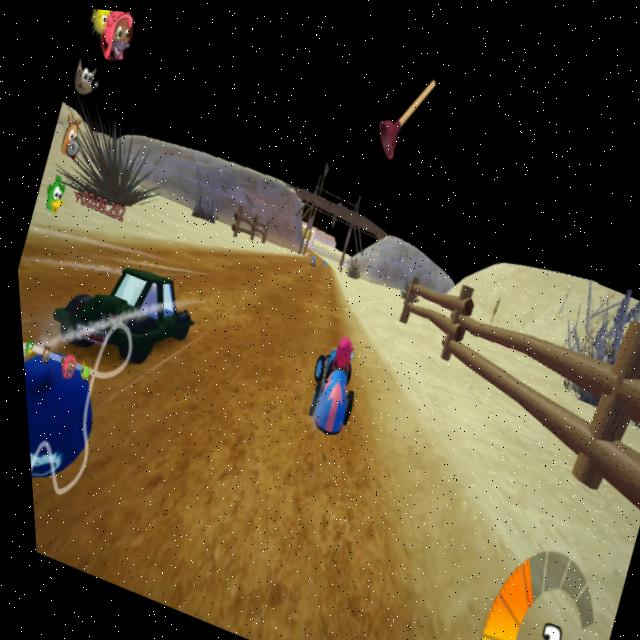bonus: (318, 251, 327, 263)
enemy_kart: (41, 238, 208, 384), (301, 252, 318, 267)
off_track: (331, 243, 635, 441), (90, 121, 296, 251)
player_kart: (288, 318, 370, 444)
track: (241, 244, 343, 321)
